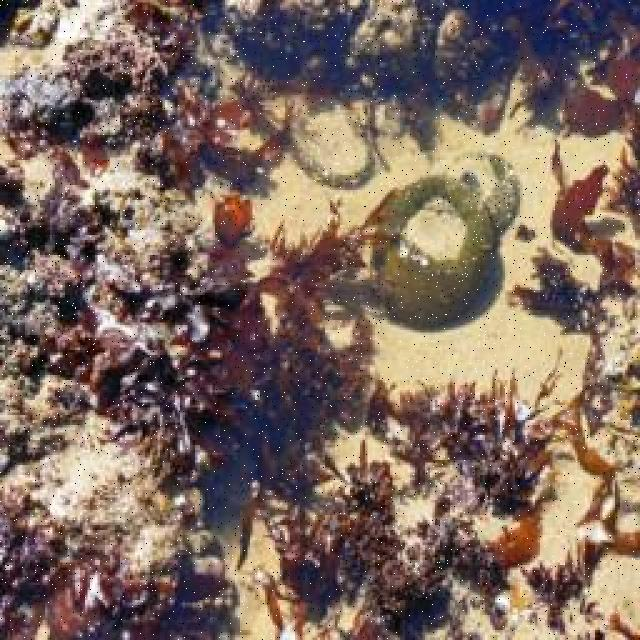aquatic plants: (97, 193, 392, 572), (263, 442, 544, 638), (509, 140, 638, 534), (372, 344, 579, 516), (152, 70, 299, 196), (523, 530, 638, 631), (565, 80, 638, 238), (586, 14, 638, 103), (214, 193, 254, 246), (78, 138, 109, 181)
reefs: (375, 175, 496, 328), (438, 151, 524, 236)
sea-floor: (0, 160, 252, 638), (226, 2, 617, 124), (0, 4, 220, 160)
